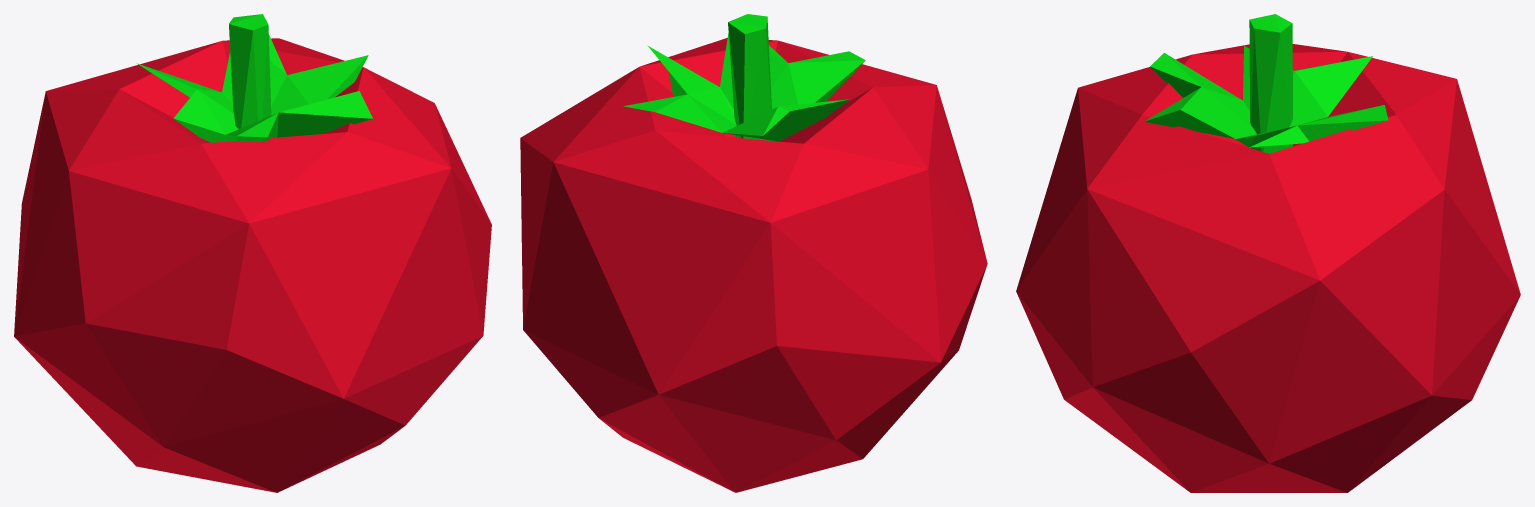
Rendered from Tomatoe.fbx.
The picture shows the model from 3 angles, left to right: view 1: azimuth 30°, elevation 25°; view 2: azimuth 150°, elevation 25°; view 3: azimuth 270°, elevation 25°; orthographic projection. The views are drawn at different scales.
Visible parts, largest first — view 1: Tomatoe; view 2: Tomatoe; view 3: Tomatoe.
Boxes of the visible parts, box(x1,y1,x2,y2) form: Tomatoe: box(14, 14, 491, 492); Tomatoe: box(520, 14, 987, 492); Tomatoe: box(1016, 14, 1520, 492).
Size of the model in its own units: 10.62 by 10.75 by 10.75.
